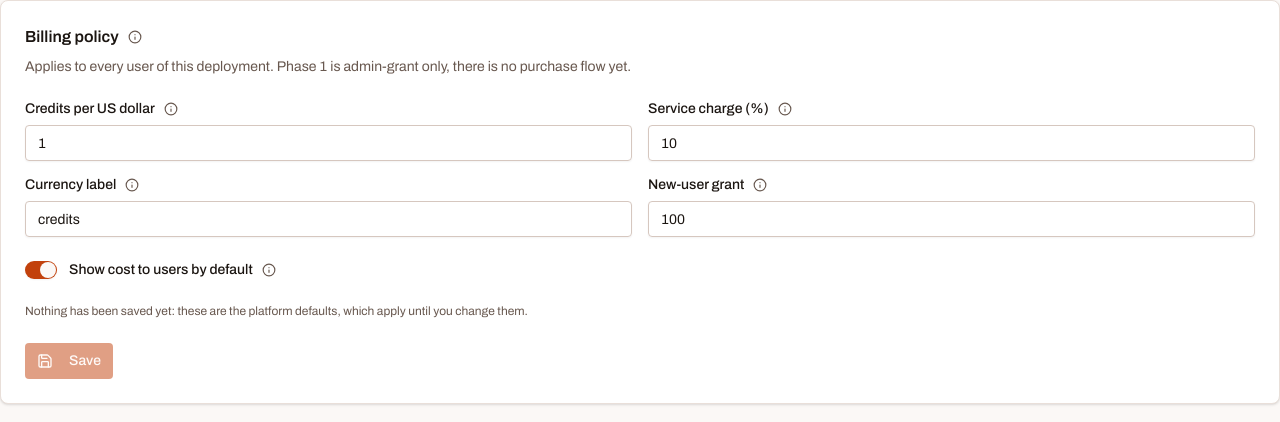
Test: BillingSettingsForm › save payload › is disabled again after a successful save
Step 1. Replace the text in the number field with id "resparkable-credits-per-usd" with "5" → (328, 143), box [25,125,632,161]
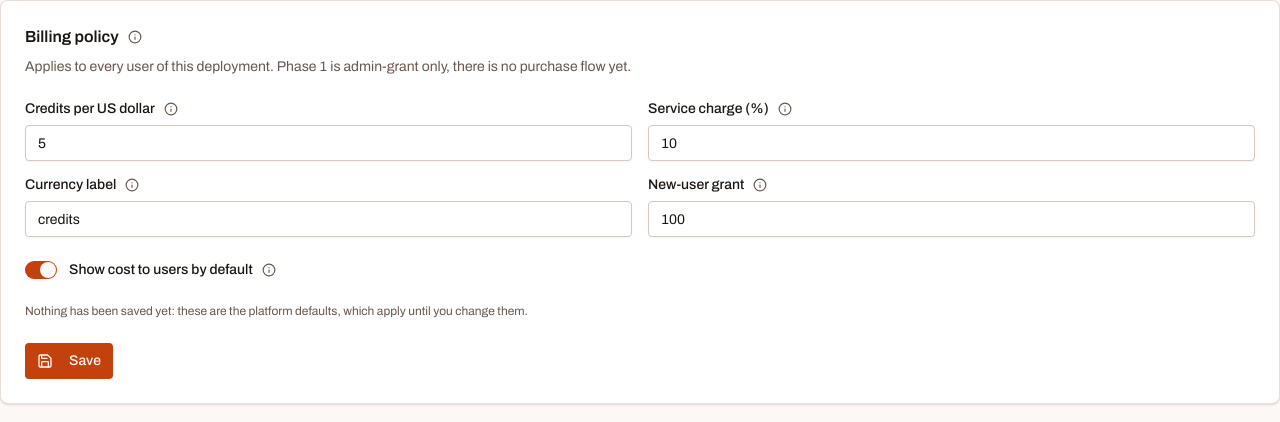
Check: the button "Save" is enabled
Step 2. Click the button "Save" → (69, 361), box [25,343,113,379]
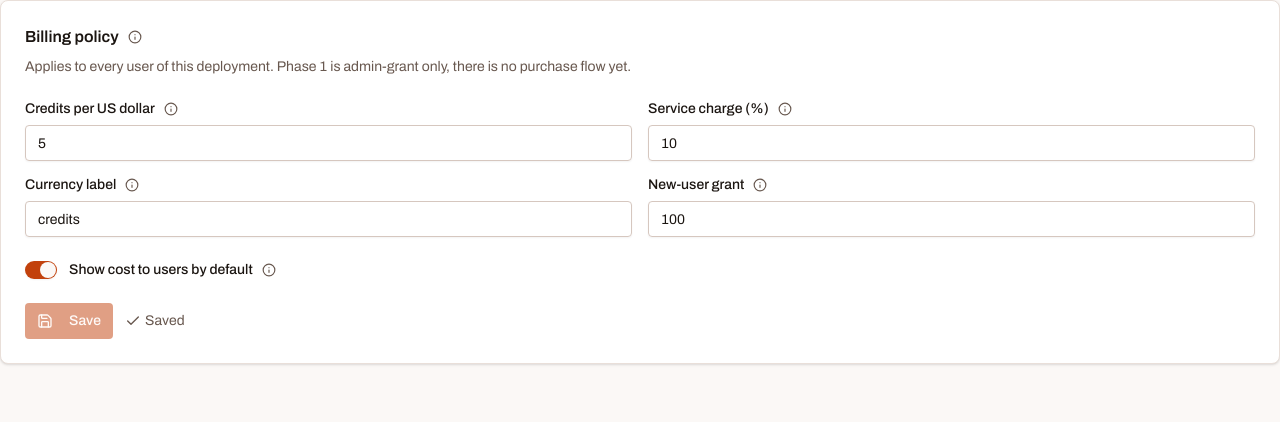
Check: the button "Save" is disabled, box [25,303,113,339]
